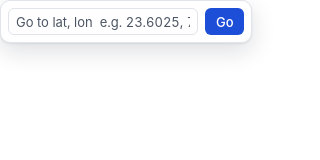
Test: CoordinateSearch › explains a position it cannot read, and does not move the map
The image size is (320, 160).
In the field named "coordinates": (103, 22) [8, 8, 198, 35], type "not a place"
Then press Enter
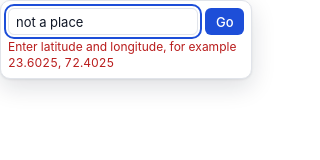
Expected: the message shows "latitude and longitude", [8, 38, 236, 70]
